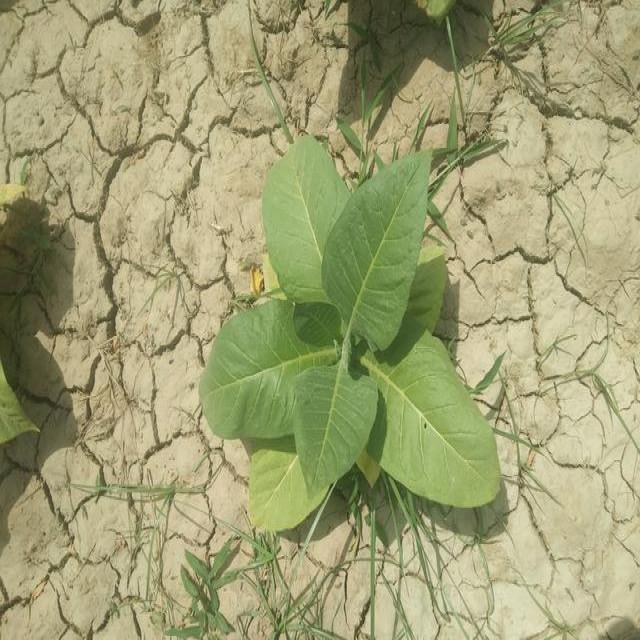crop: (199, 138, 506, 538)
